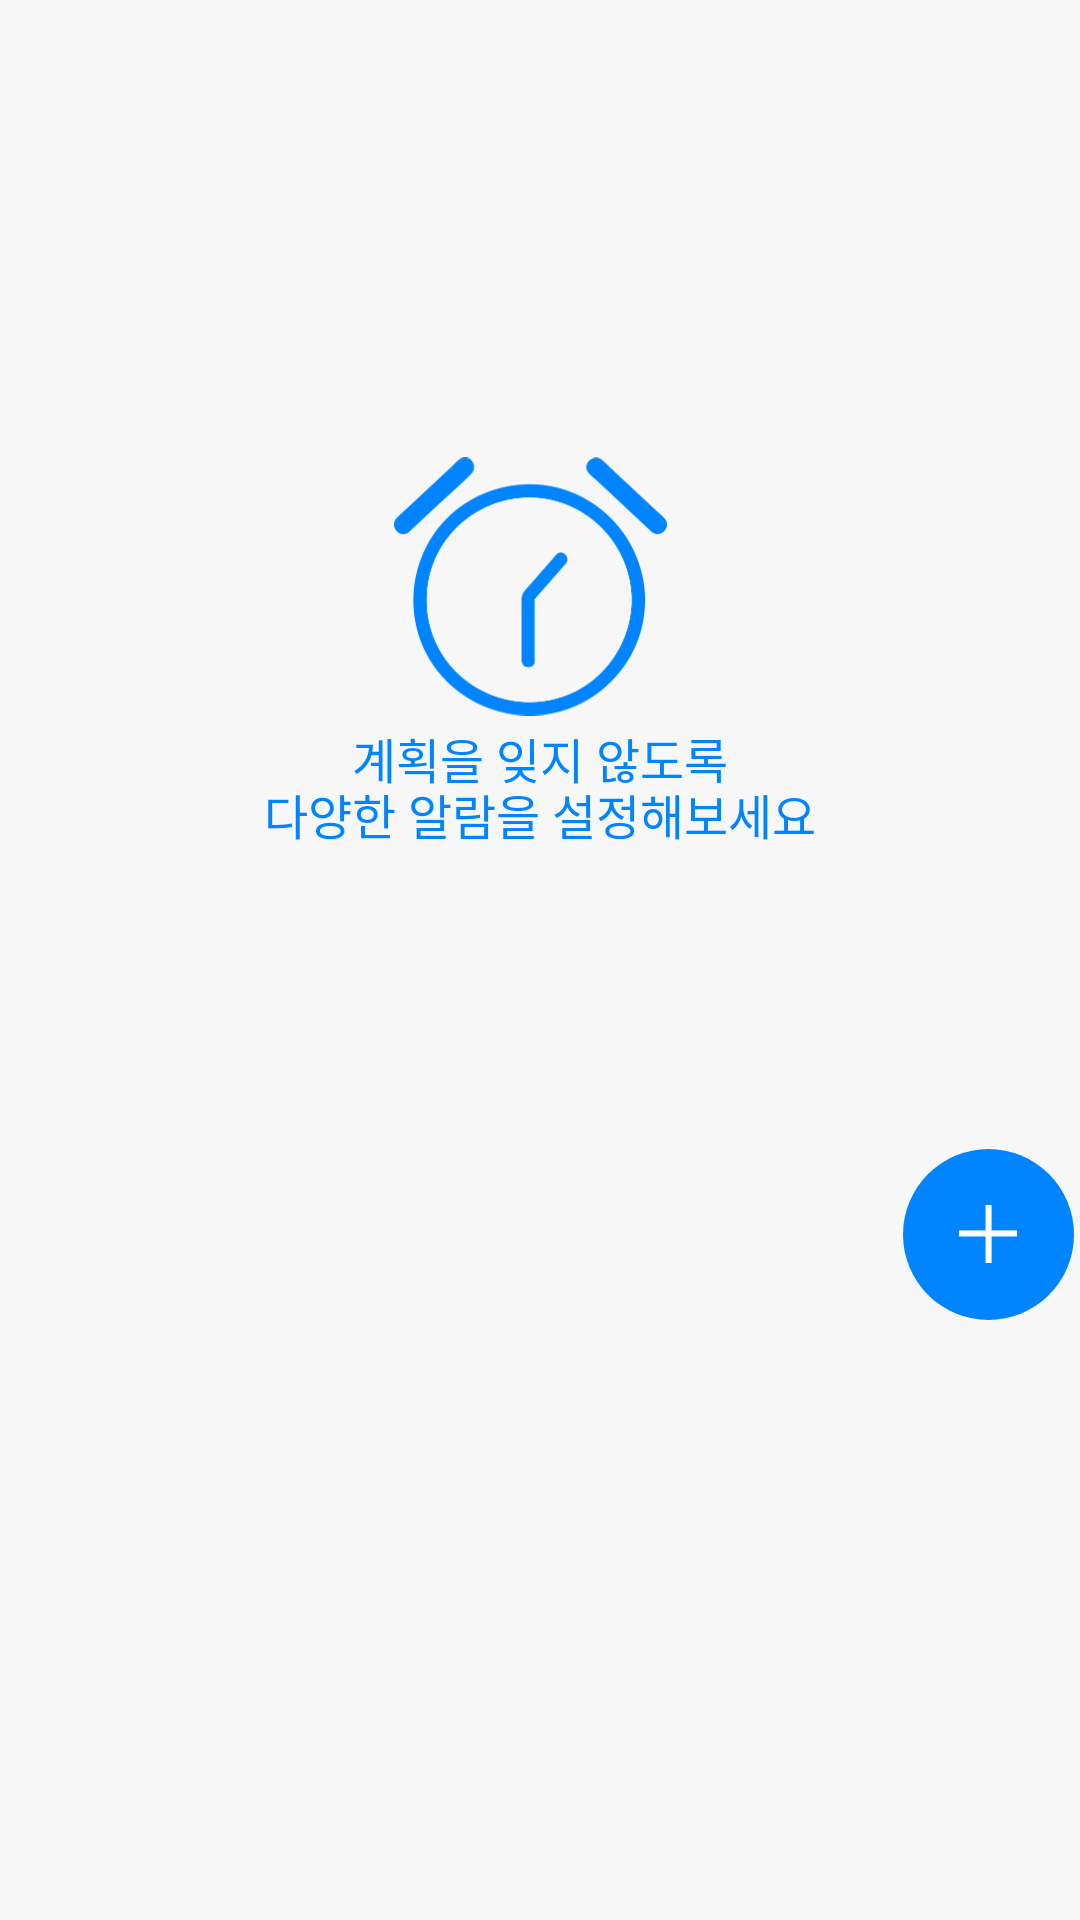

Named icons in this screenshot (1080x1920) and their bounding boxes, Rect(x1, y1, x2, y2):
plus: Rect(903, 1149, 1074, 1320)
